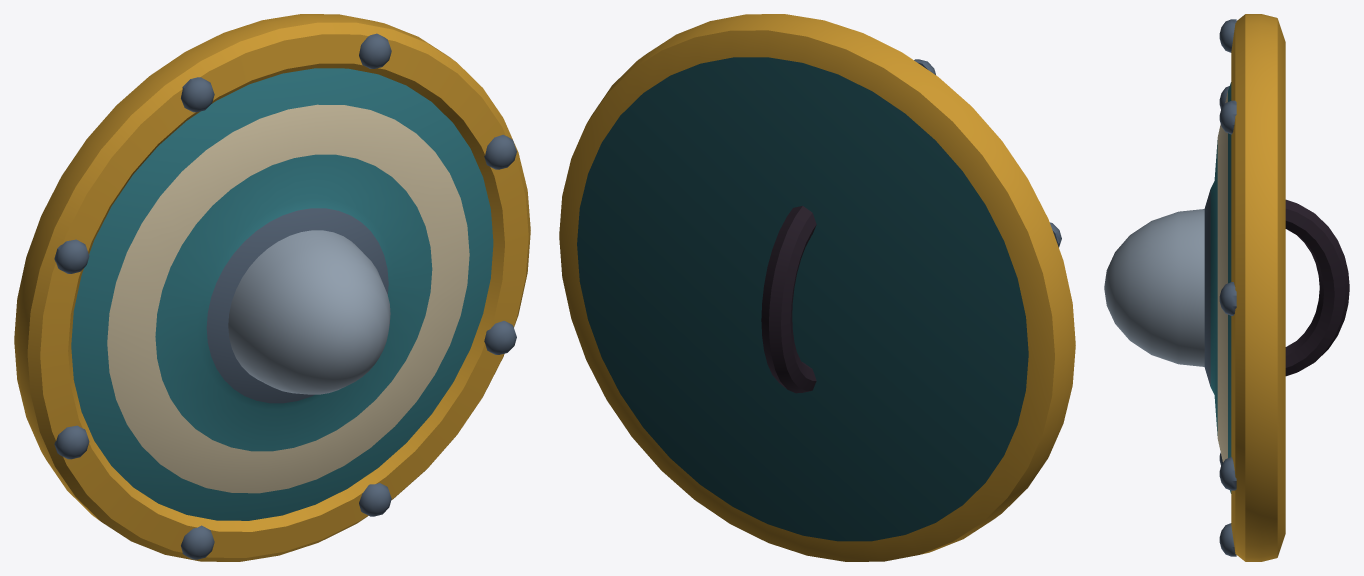
Rendered from RoundShield_23.glb.
3 views of the same model, side by side, from view 1: azimuth 30°, elevation 25°; view 2: azimuth 150°, elevation 25°; view 3: azimuth 270°, elevation 25° (orthographic). The views are drawn at different scales.
Parts seen in each view (by area): view 1: RoundShield_23; view 2: RoundShield_23; view 3: RoundShield_23.
Boxes of the visible parts, x1=… form: RoundShield_23: x1=14, y1=14, x2=530, y2=561; RoundShield_23: x1=559, y1=14, x2=1075, y2=561; RoundShield_23: x1=1104, y1=14, x2=1349, y2=561.
Bounding box in the file's own units: 2.73 × 2.73 × 1.22.
